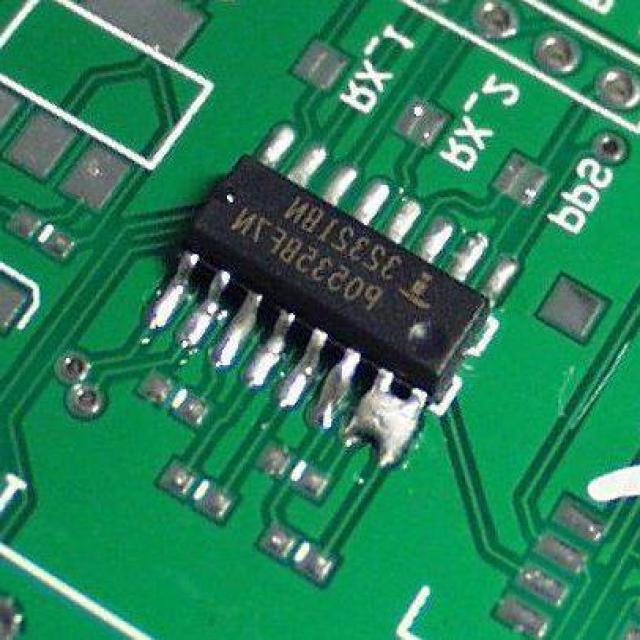Short_circuit: (341, 362, 427, 476)
